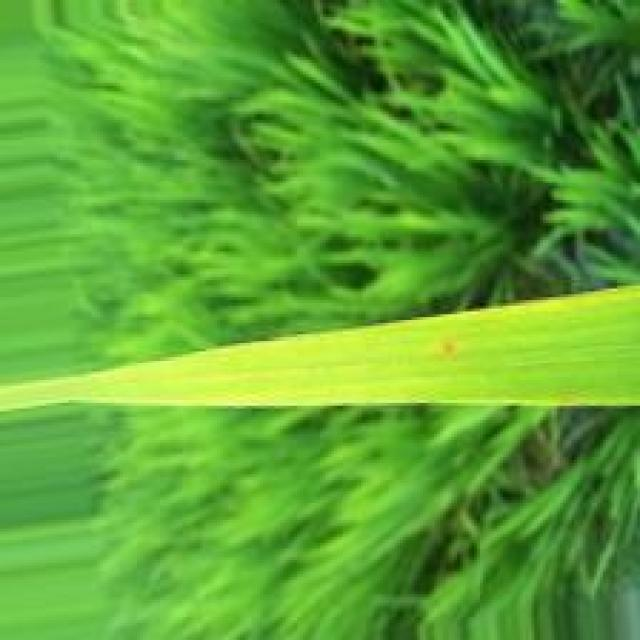Brown_Spot: (443, 343, 455, 355)
